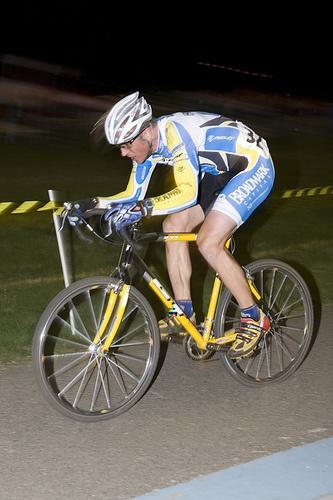car: (30, 202, 316, 423)
person: (68, 92, 277, 360)
